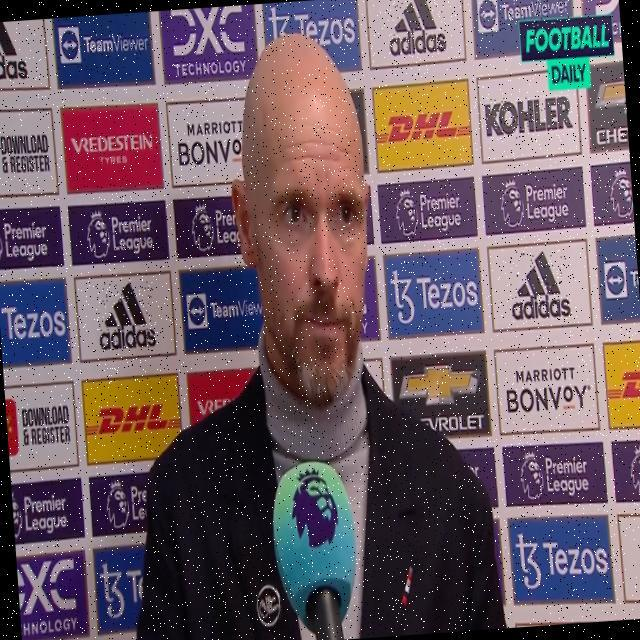Adidas: (508, 247, 572, 322), (95, 278, 158, 352), (384, 0, 446, 56)
Chevrolet: (398, 357, 486, 437)
Kohler: (483, 92, 574, 140)
TeamViewer: (58, 22, 149, 65), (478, 0, 569, 32)
